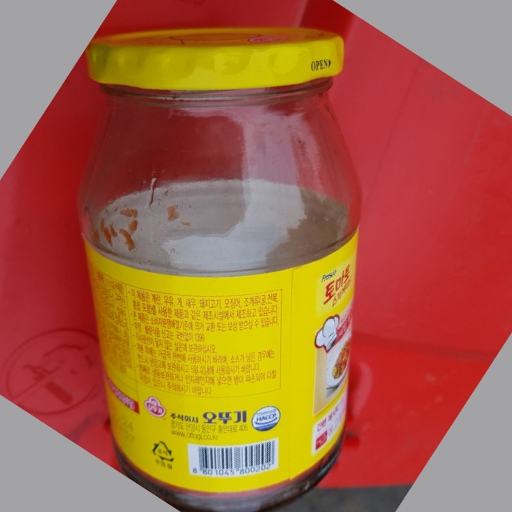Glass_5: (76, 21, 362, 509)
